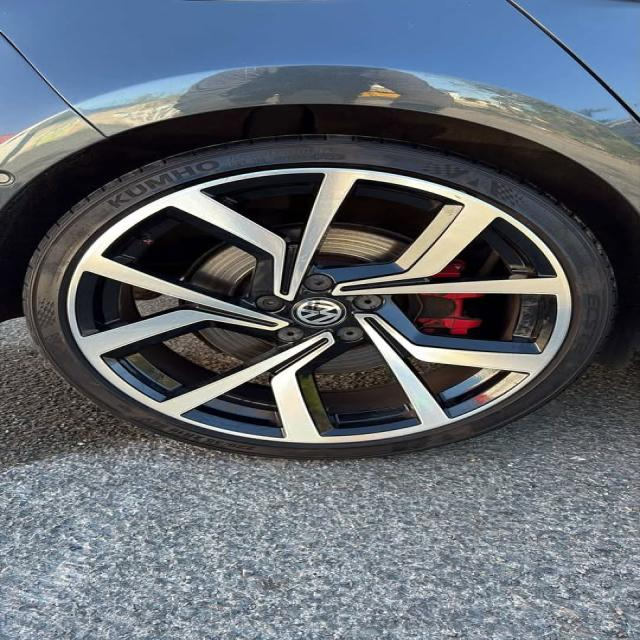jante: (67, 165, 575, 443)
parafuso: (296, 272, 338, 294), (349, 293, 388, 314), (253, 294, 287, 314), (336, 324, 368, 343), (273, 327, 308, 342)
roda: (22, 131, 621, 458)
